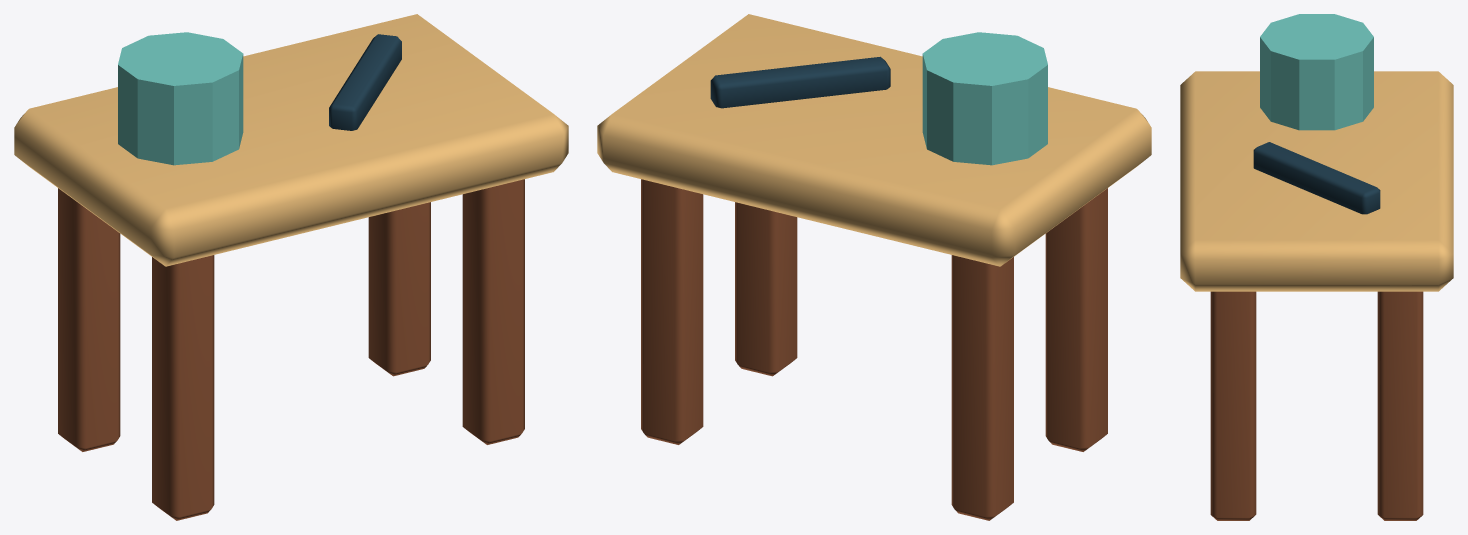
The model's file is workbench.glb.
3 views of the same model, side by side, from view 1: azimuth 30°, elevation 25°; view 2: azimuth 150°, elevation 25°; view 3: azimuth 270°, elevation 25° (orthographic). The views are drawn at different scales.
Visible parts, largest first — view 1: Top, Leg, Leg.002, Pot, Leg.001, Leg.003, Tool; view 2: Top, Leg.001, Leg.003, Pot, Leg, Leg.002, Tool; view 3: Top, Pot, Leg.002, Leg.003, Tool.
Part boxes in pixels (<box>): Top: <box>14,14,568,266</box>; Leg: <box>152,255,214,520</box>; Leg.002: <box>462,179,524,444</box>; Pot: <box>118,32,243,165</box>; Leg.001: <box>58,188,120,451</box>; Leg.003: <box>368,202,430,376</box>; Tool: <box>329,34,401,130</box>; Top: <box>597,14,1151,266</box>; Leg.001: <box>951,255,1013,520</box>; Leg.003: <box>641,179,703,444</box>; Pot: <box>922,32,1047,165</box>; Leg: <box>1045,188,1107,451</box>; Leg.002: <box>735,202,797,376</box>; Tool: <box>710,56,890,108</box>; Top: <box>1180,71,1453,291</box>; Pot: <box>1260,14,1373,130</box>; Leg.002: <box>1210,291,1256,520</box>; Leg.003: <box>1377,291,1423,520</box>; Tool: <box>1253,142,1380,214</box>.
Size of the model in its own units: 1.13 by 1.05 by 0.72.
